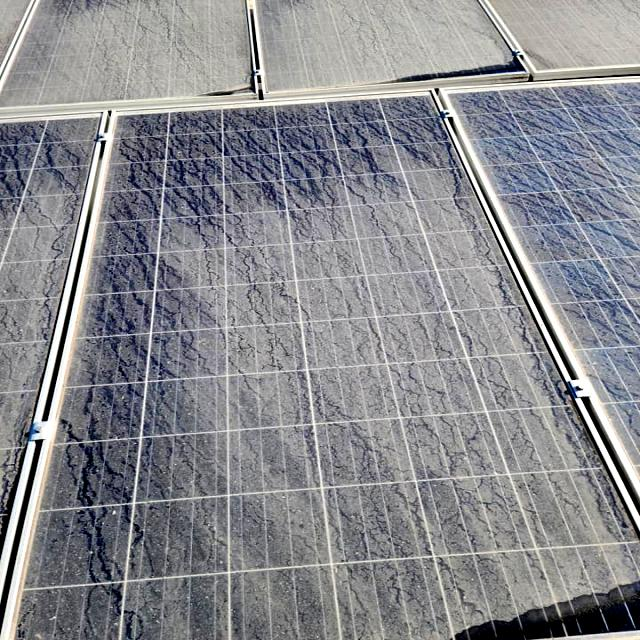dust: (124, 116, 480, 636), (262, 3, 510, 79), (516, 425, 601, 640), (487, 106, 640, 222), (32, 4, 234, 88), (54, 441, 112, 640)
